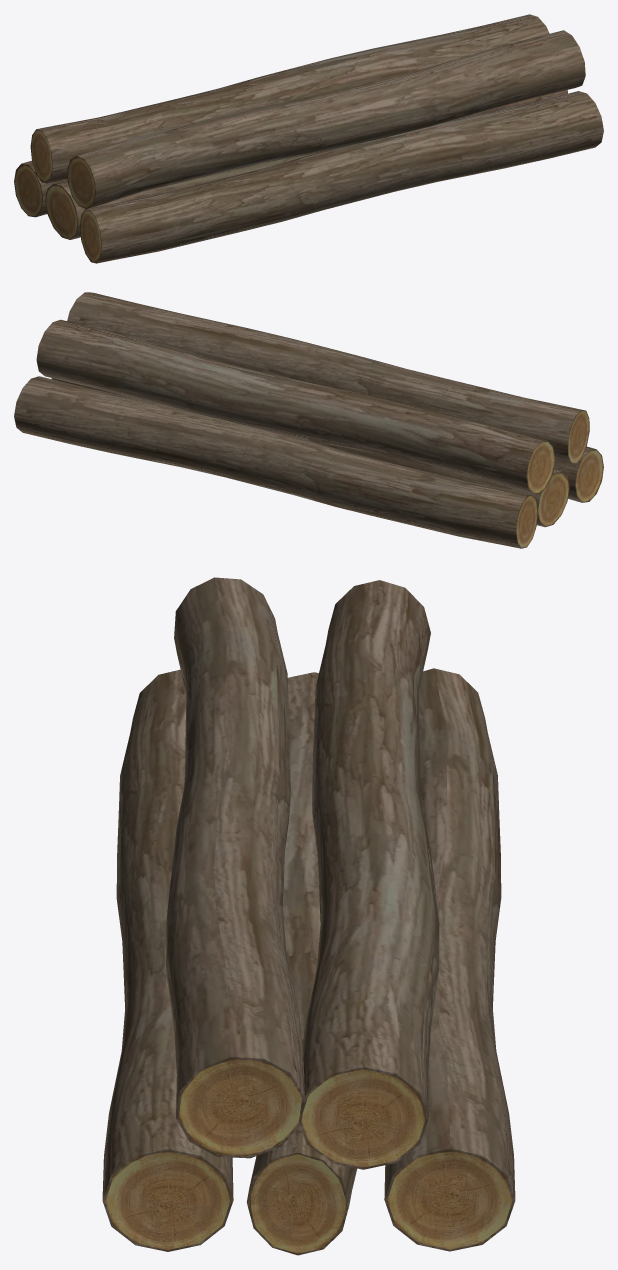
File: log-stack-trunks.glb
3 views of the same model, one above another, from view 1: azimuth 30°, elevation 25°; view 2: azimuth 150°, elevation 25°; view 3: azimuth 270°, elevation 25° (orthographic). The views are drawn at different scales.
Visible parts, largest first — view 1: Cylinder.008; view 2: Cylinder.008; view 3: Cylinder.008.
Boxes of the visible parts, x1,y1,x2,y2 form: Cylinder.008: [14, 14, 603, 263]; Cylinder.008: [14, 292, 603, 548]; Cylinder.008: [102, 577, 515, 1255].
Bounding box in the file's own units: 3.11 × 0.5851 × 1.11.
Materials: 1 (1 with a texture image).
